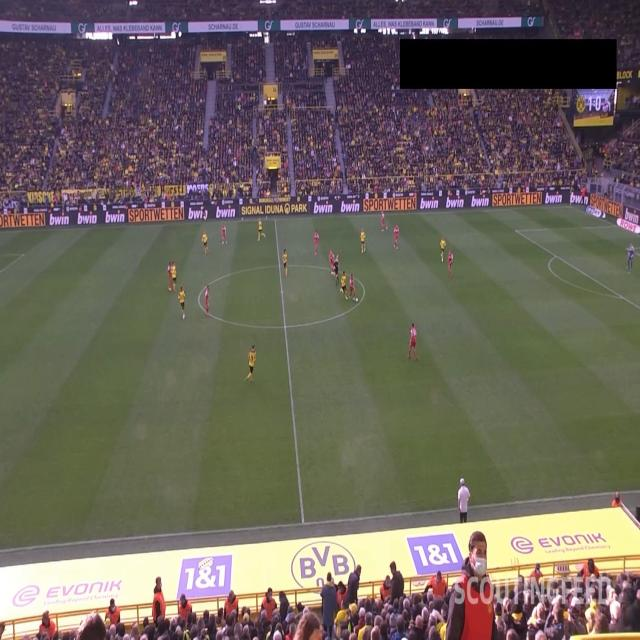ball: (355, 297, 359, 303)
